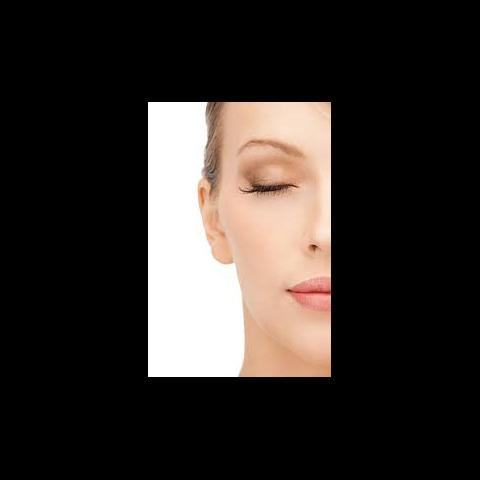closed: (227, 134, 314, 203)
